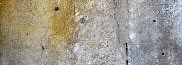Corrosion: (1, 1, 89, 65)
